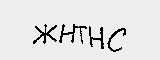Ж: (32, 23, 59, 46)
Н: (87, 23, 106, 51), (59, 22, 77, 47)
С: (107, 27, 129, 55)
Т: (73, 22, 88, 46)
